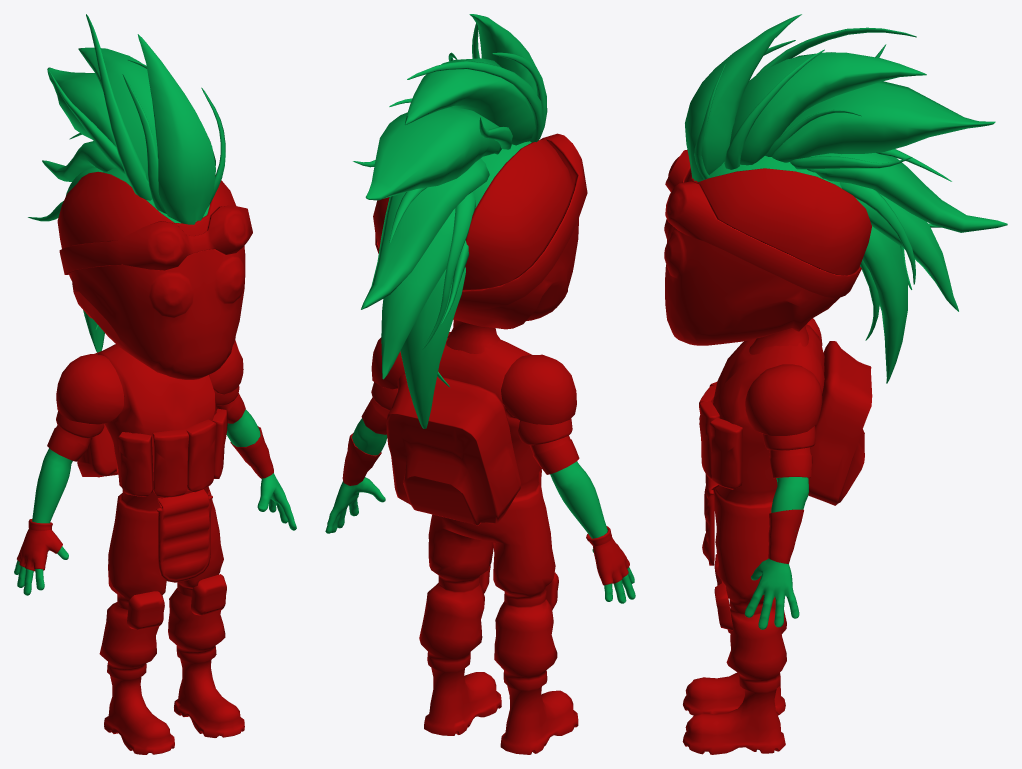
The picture shows the model from 3 angles, left to right: view 1: azimuth 30°, elevation 25°; view 2: azimuth 150°, elevation 25°; view 3: azimuth 270°, elevation 25°; orthographic projection. The views are drawn at different scales.
Parts seen in each view (by area): view 1: kiyafet_low, kafa_low, sac11_low, gozluk_low, omuz_low, vucut_low, onluk_low, sac10_low, paket3_low, sac9_low, Dizlik_low, paket1_low (+9 smaller); view 2: kiyafet_low, kafa_low, canta_low, sac9_low, sac6_low, vucut_low, sac10_low, omuz_low, gozluk_low, sac2_low, sac1_low, sac11_low (+7 smaller); view 3: kafa_low, kiyafet_low, sac9_low, sac10_low, canta_low, gozluk_low, sac11_low, sac6_low, omuz_low, vucut_low, sac1_low, sac2_low (+12 smaller).
Part boxes in pixels (<box>): kiyafet_low: <box>47,344,245,754</box>; kafa_low: <box>57,171,245,379</box>; sac11_low: <box>137,34,215,224</box>; gozluk_low: <box>59,205,252,274</box>; omuz_low: <box>56,340,243,424</box>; vucut_low: <box>14,167,296,595</box>; onluk_low: <box>156,489,212,582</box>; sac10_low: <box>78,47,157,180</box>; paket3_low: <box>118,408,227,496</box>; sac9_low: <box>47,67,116,146</box>; Dizlik_low: <box>127,574,226,630</box>; paket1_low: <box>152,429,188,497</box>; kiyafet_low: <box>361,332,579,754</box>; kafa_low: <box>373,139,578,353</box>; canta_low: <box>386,374,520,525</box>; sac9_low: <box>365,106,501,200</box>; sac6_low: <box>361,158,489,309</box>; vucut_low: <box>325,141,635,603</box>; sac10_low: <box>405,58,535,145</box>; omuz_low: <box>371,337,576,425</box>; gozluk_low: <box>375,133,587,309</box>; sac2_low: <box>381,208,455,379</box>; sac1_low: <box>400,267,465,428</box>; sac11_low: <box>469,14,546,99</box>; kafa_low: <box>664,168,871,354</box>; kiyafet_low: <box>682,324,824,754</box>; sac9_low: <box>772,81,995,162</box>; sac10_low: <box>729,52,926,165</box>; canta_low: <box>808,341,872,505</box>; gozluk_low: <box>665,150,861,298</box>; sac11_low: <box>685,14,801,181</box>; sac6_low: <box>807,153,1007,232</box>; omuz_low: <box>745,318,822,435</box>; vucut_low: <box>697,156,841,629</box>; sac1_low: <box>862,226,907,383</box>; sac2_low: <box>856,194,958,311</box>.
Bounding box in the file's own units: 133 × 313 × 137.
